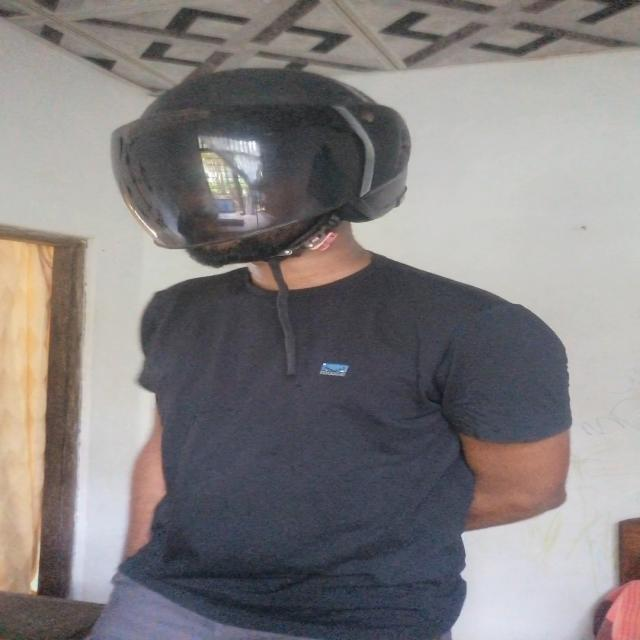Helmet_Wearer: (101, 55, 442, 284)
Person: (65, 56, 575, 640)
